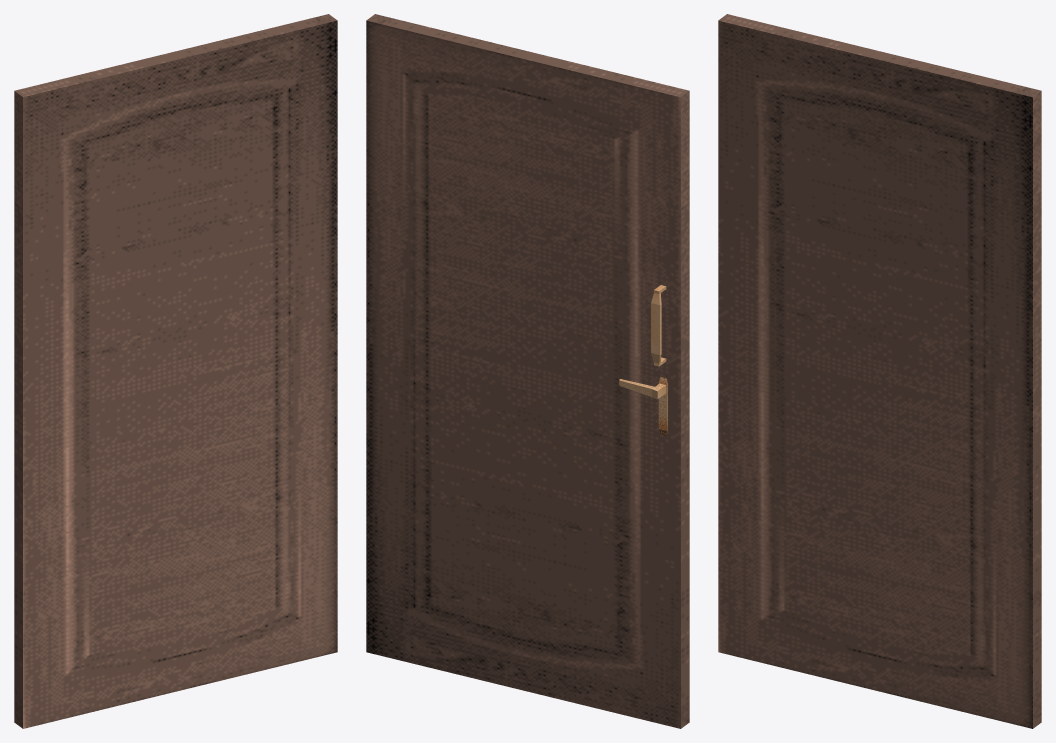
The model's file is door_03.glb.
The picture shows the model from 3 angles, left to right: view 1: azimuth 30°, elevation 25°; view 2: azimuth 150°, elevation 25°; view 3: azimuth 330°, elevation 25°; orthographic projection.
Parts seen in each view (by area): view 1: polySurface38.001; view 2: polySurface38.001; view 3: polySurface38.001.
Boxes of the visible parts, left/top/right/bottom form: polySurface38.001: left=14, top=14, right=337, bottom=728; polySurface38.001: left=366, top=14, right=689, bottom=728; polySurface38.001: left=718, top=14, right=1041, bottom=728.
Bounding box in the file's own units: 1.09 × 2.1 × 0.1101.
2 materials, 2 textured.
